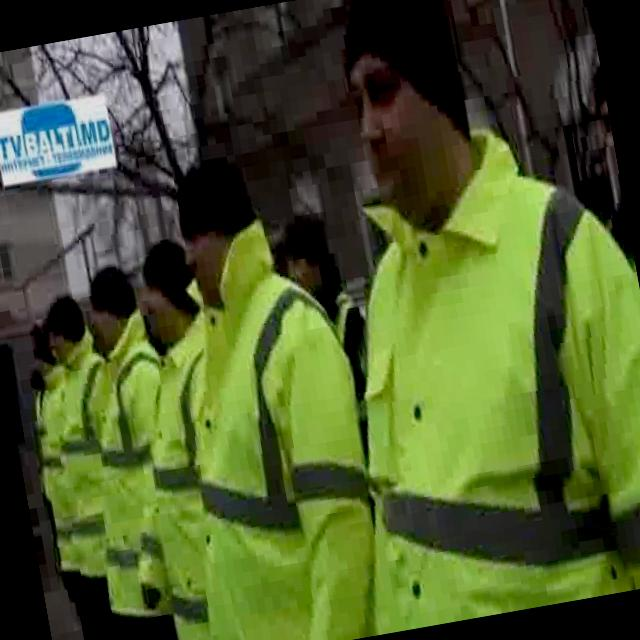vest: (291, 101, 640, 635), (136, 203, 399, 640), (120, 309, 267, 640), (58, 306, 204, 619), (36, 322, 144, 583), (24, 356, 100, 578)
